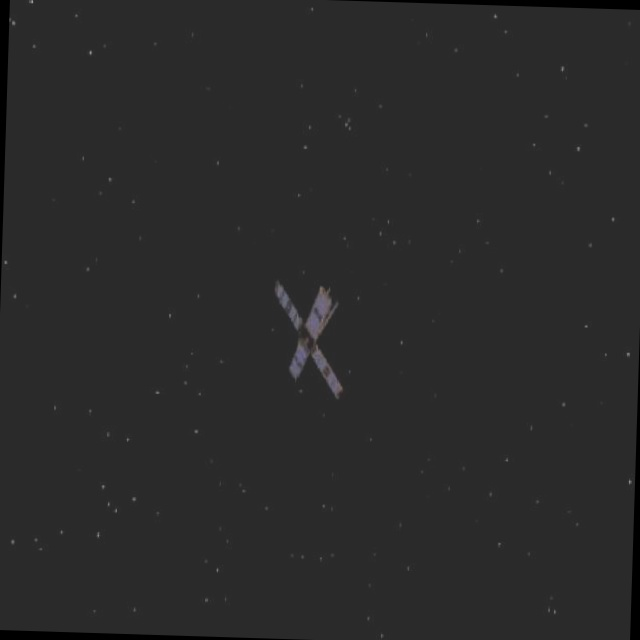satellite: (259, 271, 372, 405)
